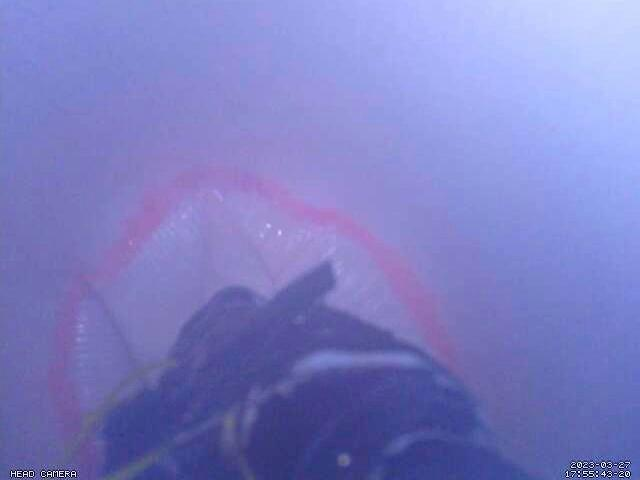head: (46, 167, 468, 480)
